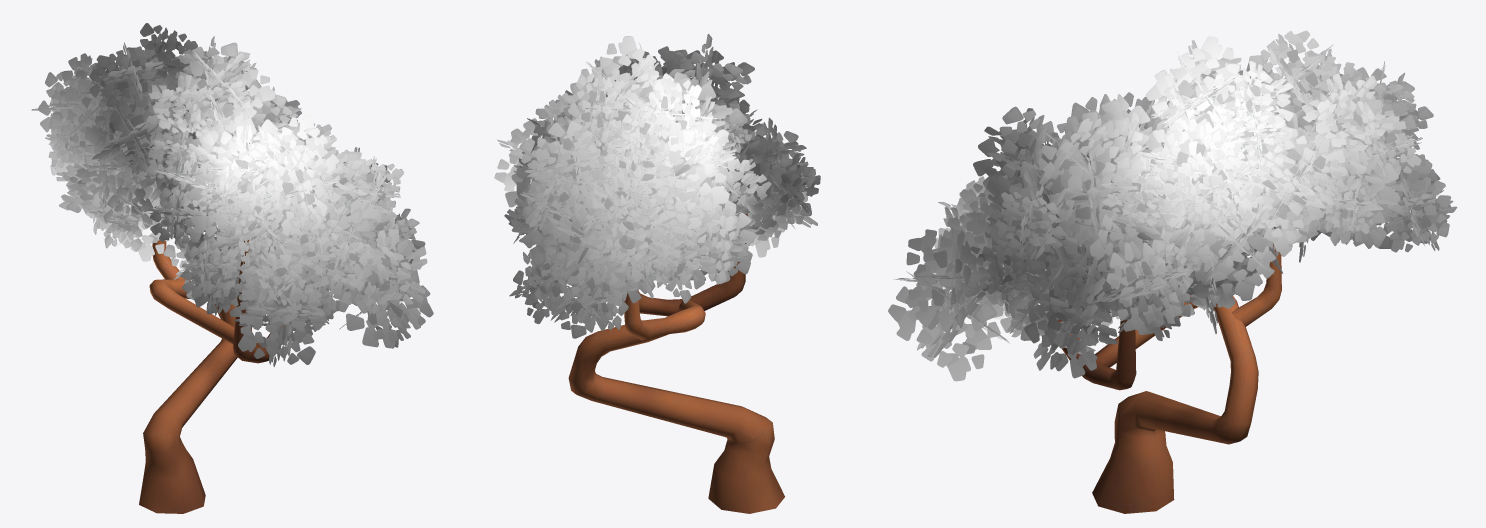
File: STSwiggly1.glb
The picture shows the model from 3 angles, left to right: view 1: azimuth 30°, elevation 25°; view 2: azimuth 150°, elevation 25°; view 3: azimuth 270°, elevation 25°; orthographic projection. The views are drawn at different scales.
Parts seen in each view (by area): view 1: Leaf.024; view 2: Leaf.024; view 3: Leaf.024.
Part boxes in pixels (x1=…): Leaf.024: x1=31, y1=23, x2=433, y2=513; Leaf.024: x1=494, y1=34, x2=820, y2=513; Leaf.024: x1=888, y1=30, x2=1457, y2=513.
Bounding box in the file's own units: 4.46 × 5.99 × 6.46.
Materials: 2 (2 with a texture image).
